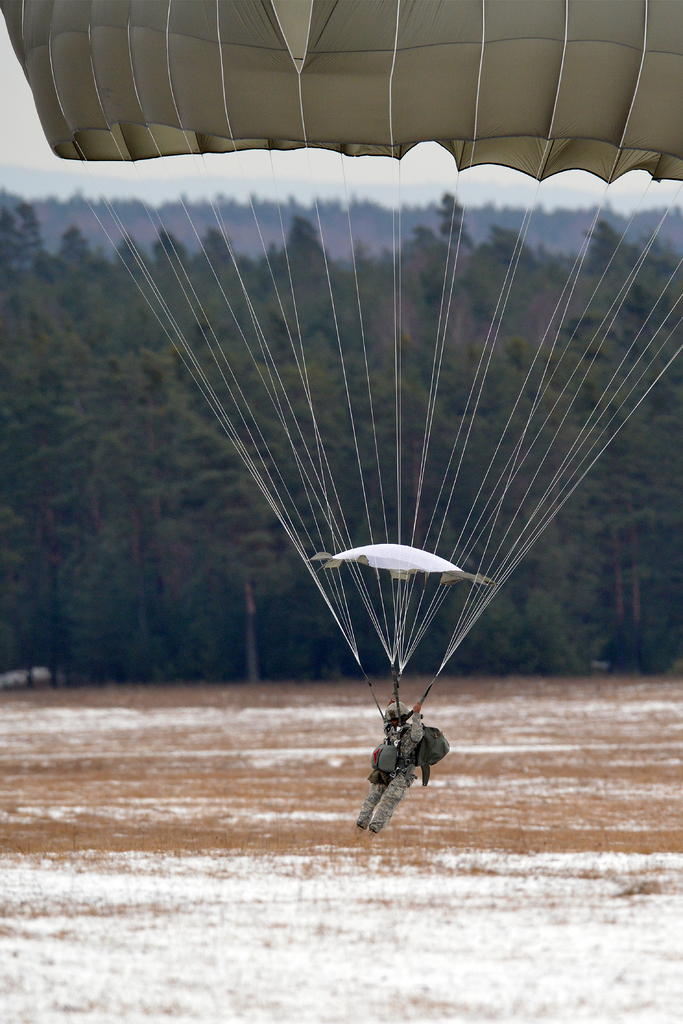Person: (351, 697, 424, 842)
